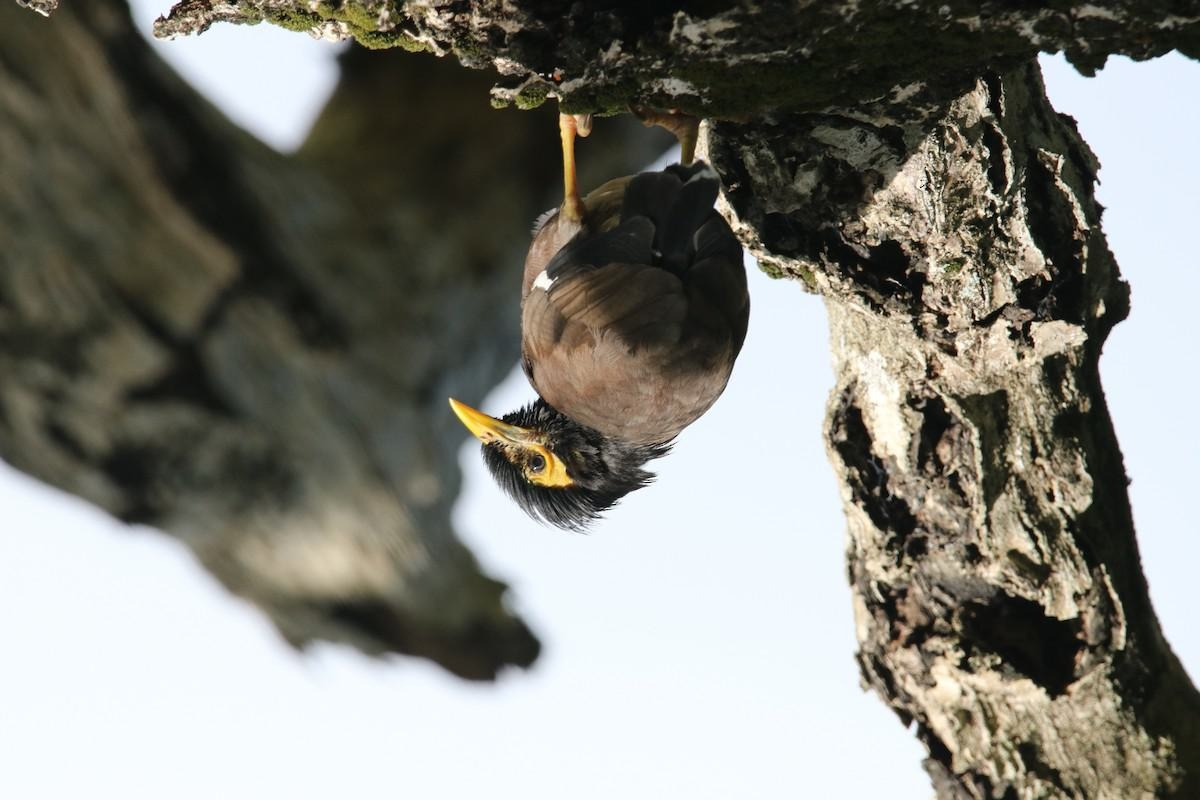myna: (469, 116, 781, 541)
